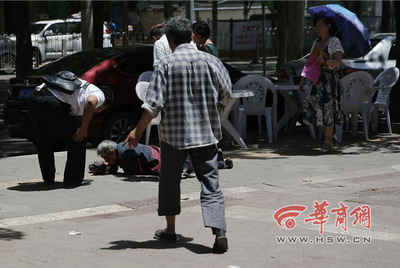fall: (87, 133, 173, 179)
